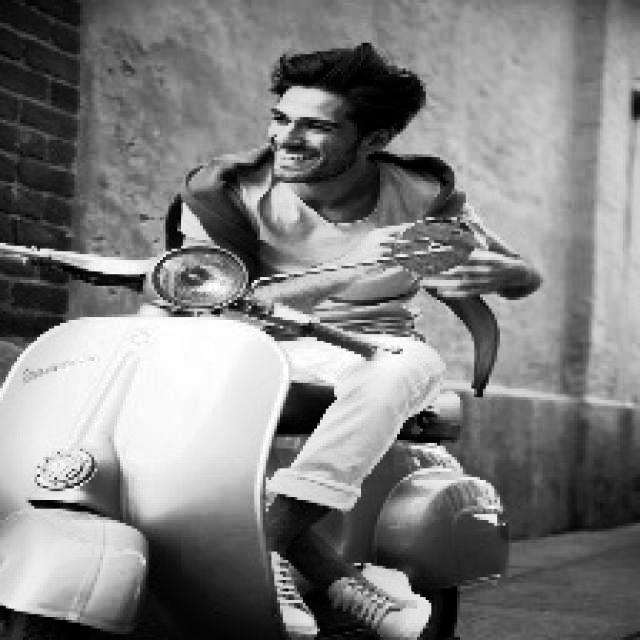Bike: (9, 242, 498, 640)
